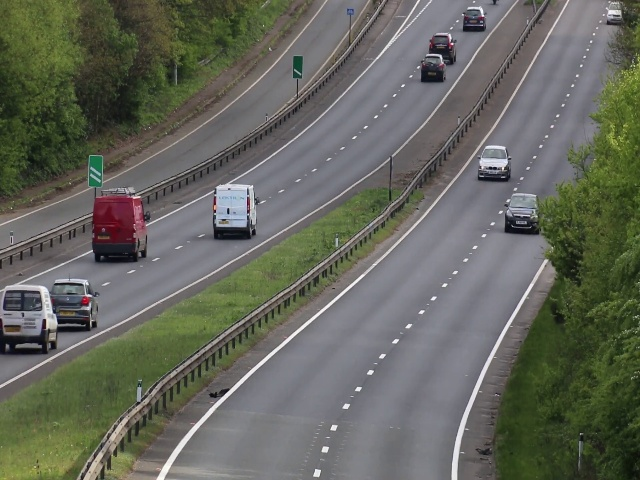car: (91, 192, 148, 262), (1, 286, 57, 354), (212, 181, 259, 240), (52, 277, 98, 329), (507, 192, 537, 234), (479, 143, 510, 181), (429, 32, 457, 63), (462, 6, 486, 34), (421, 55, 445, 83), (607, 5, 621, 24)
